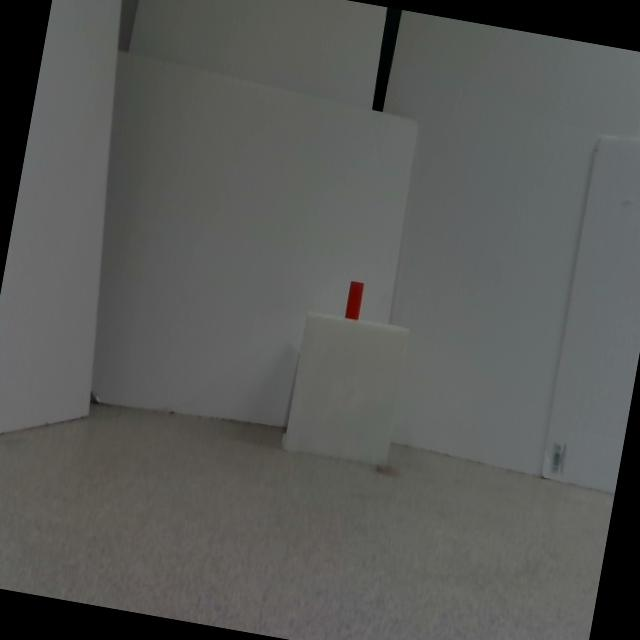red_cylinder: (344, 280, 364, 320)
